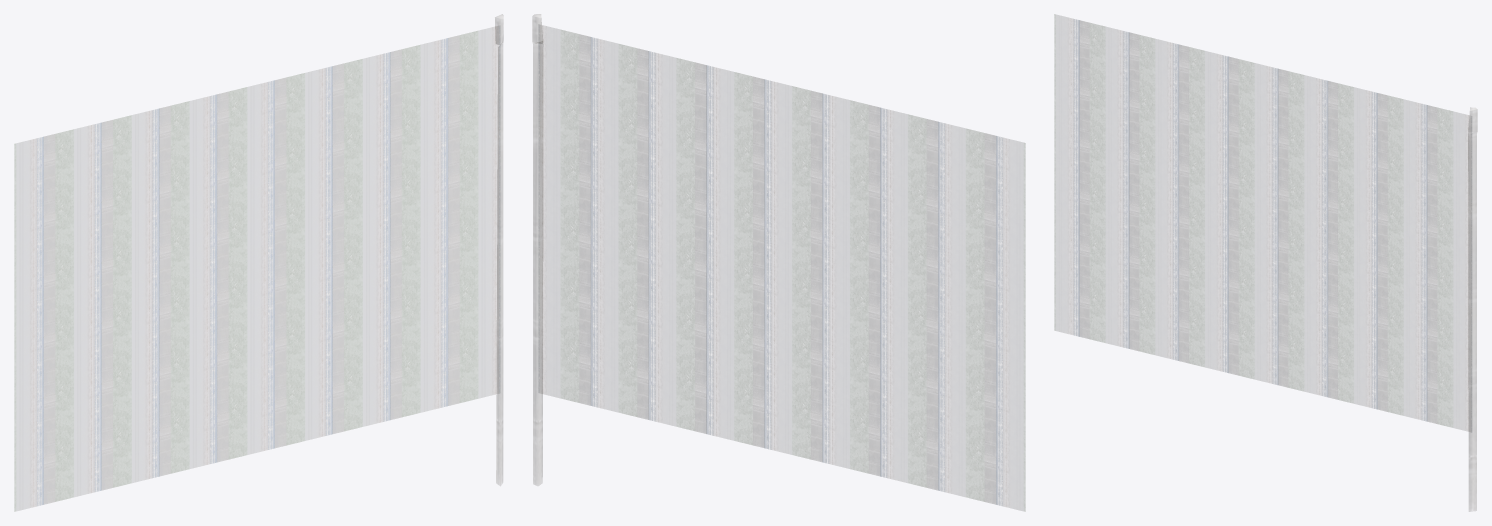
File: BarbedWire.glb
3 renders of one model, left to right at view 1: azimuth 30°, elevation 25°; view 2: azimuth 150°, elevation 25°; view 3: azimuth 330°, elevation 25°, orthographic. The views are drawn at different scales.
Parts seen in each view (by area): view 1: BarbedWire; view 2: BarbedWire; view 3: BarbedWire.
Boxes of the visible parts, bbox=[...] form: BarbedWire: bbox=[14, 14, 503, 510]; BarbedWire: bbox=[532, 14, 1025, 510]; BarbedWire: bbox=[1054, 14, 1477, 511].
Size of the model in its own units: 0.0195 by 0.0178 by 0.000358.
1 material, 1 textured.
